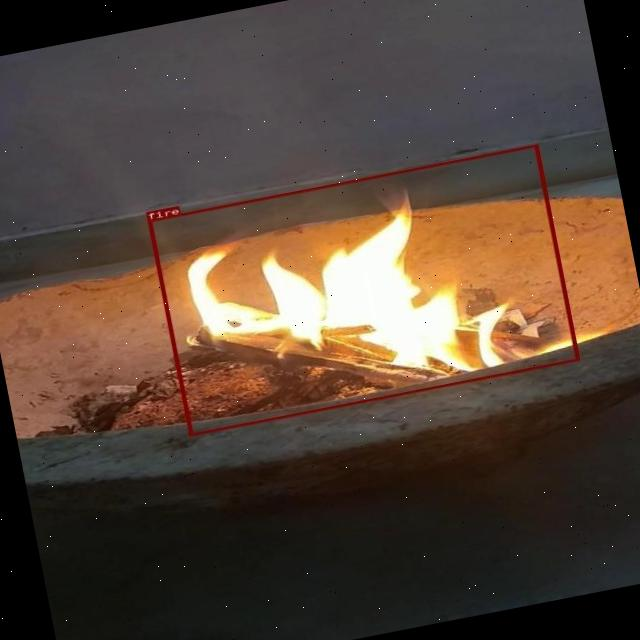fire: (146, 144, 580, 436)
